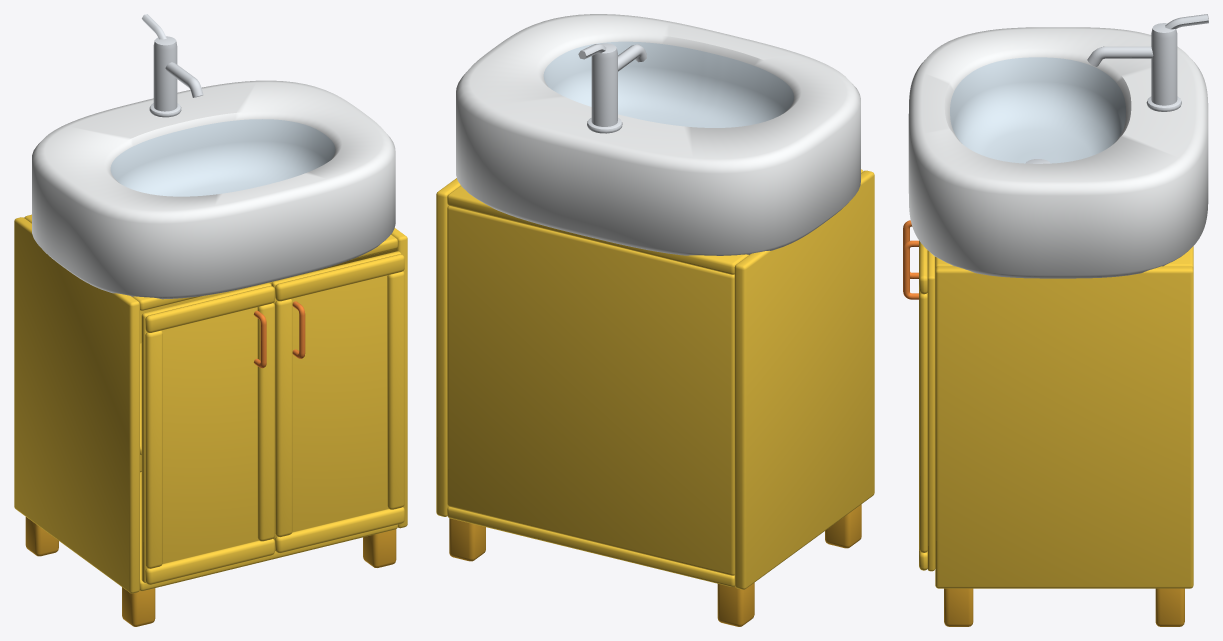
The model's file is gabinete_pia_arredondado_amarelo.glb.
3 views of the same model, side by side, from view 1: azimuth 30°, elevation 25°; view 2: azimuth 150°, elevation 25°; view 3: azimuth 270°, elevation 25° (orthographic). The views are drawn at different scales.
Visible parts, largest first — view 1: gabinete_pia_arredondado_amarelo, porta_1, porta_2; view 2: gabinete_pia_arredondado_amarelo; view 3: gabinete_pia_arredondado_amarelo, porta_2.
Part boxes in pixels (left/top/right/bottom): gabinete_pia_arredondado_amarelo: left=14, top=14, right=407, bottom=626; porta_1: left=141, top=283, right=274, bottom=584; porta_2: left=271, top=251, right=404, bottom=553; gabinete_pia_arredondado_amarelo: left=436, top=14, right=874, bottom=626; gabinete_pia_arredondado_amarelo: left=908, top=14, right=1208, bottom=626; porta_2: left=903, top=240, right=935, bottom=571.
Bounding box in the file's own units: 0.6598 × 1.02 × 0.5208.
Materials: 1 (1 with a texture image).
